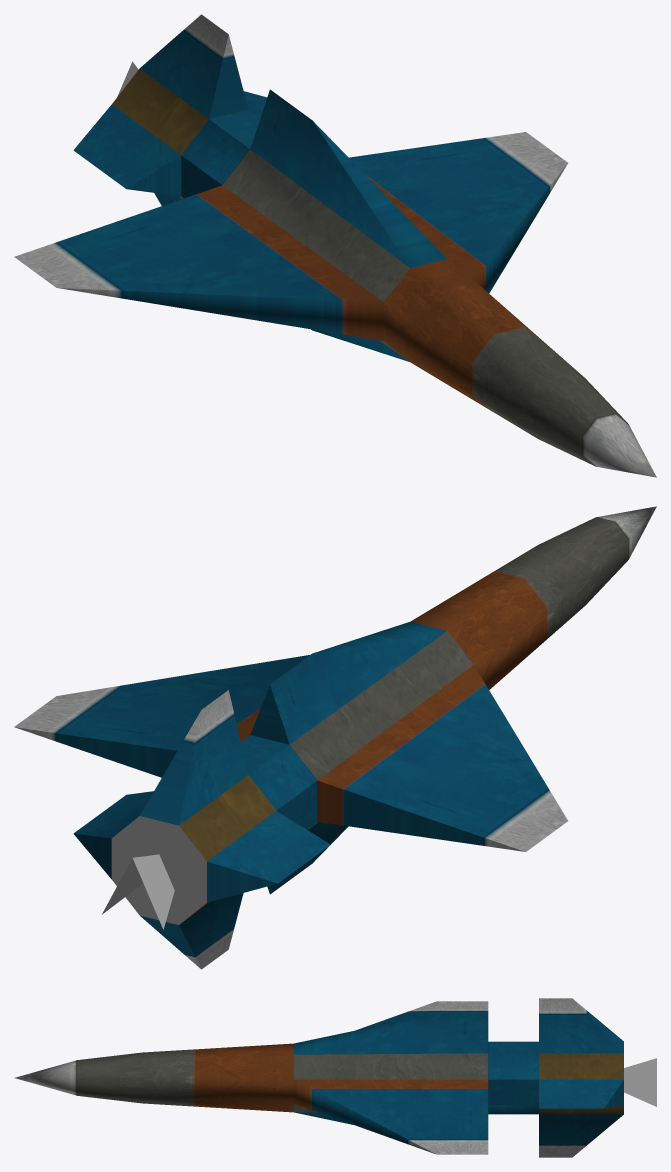
File: iomcrs00.FBX
3 renders of one model, top to bottom at view 1: azimuth 30°, elevation 25°; view 2: azimuth 150°, elevation 25°; view 3: azimuth 270°, elevation 25°, orthographic. The views are drawn at different scales.
Visible parts, largest first — view 1: iomcrs00; view 2: iomcrs00, flame_1__h, hp_emit_10; view 3: iomcrs00, hp_emit_10.
Part boxes in pixels (<box>): iomcrs00: <box>14,14,656,477</box>; iomcrs00: <box>14,506,656,969</box>; flame_1__h: <box>111,816,206,924</box>; hp_emit_10: <box>102,854,174,929</box>; iomcrs00: <box>15,998,623,1157</box>; hp_emit_10: <box>624,1058,656,1106</box>.
Size of the model in its own units: 1.46 by 0.7087 by 2.59.
